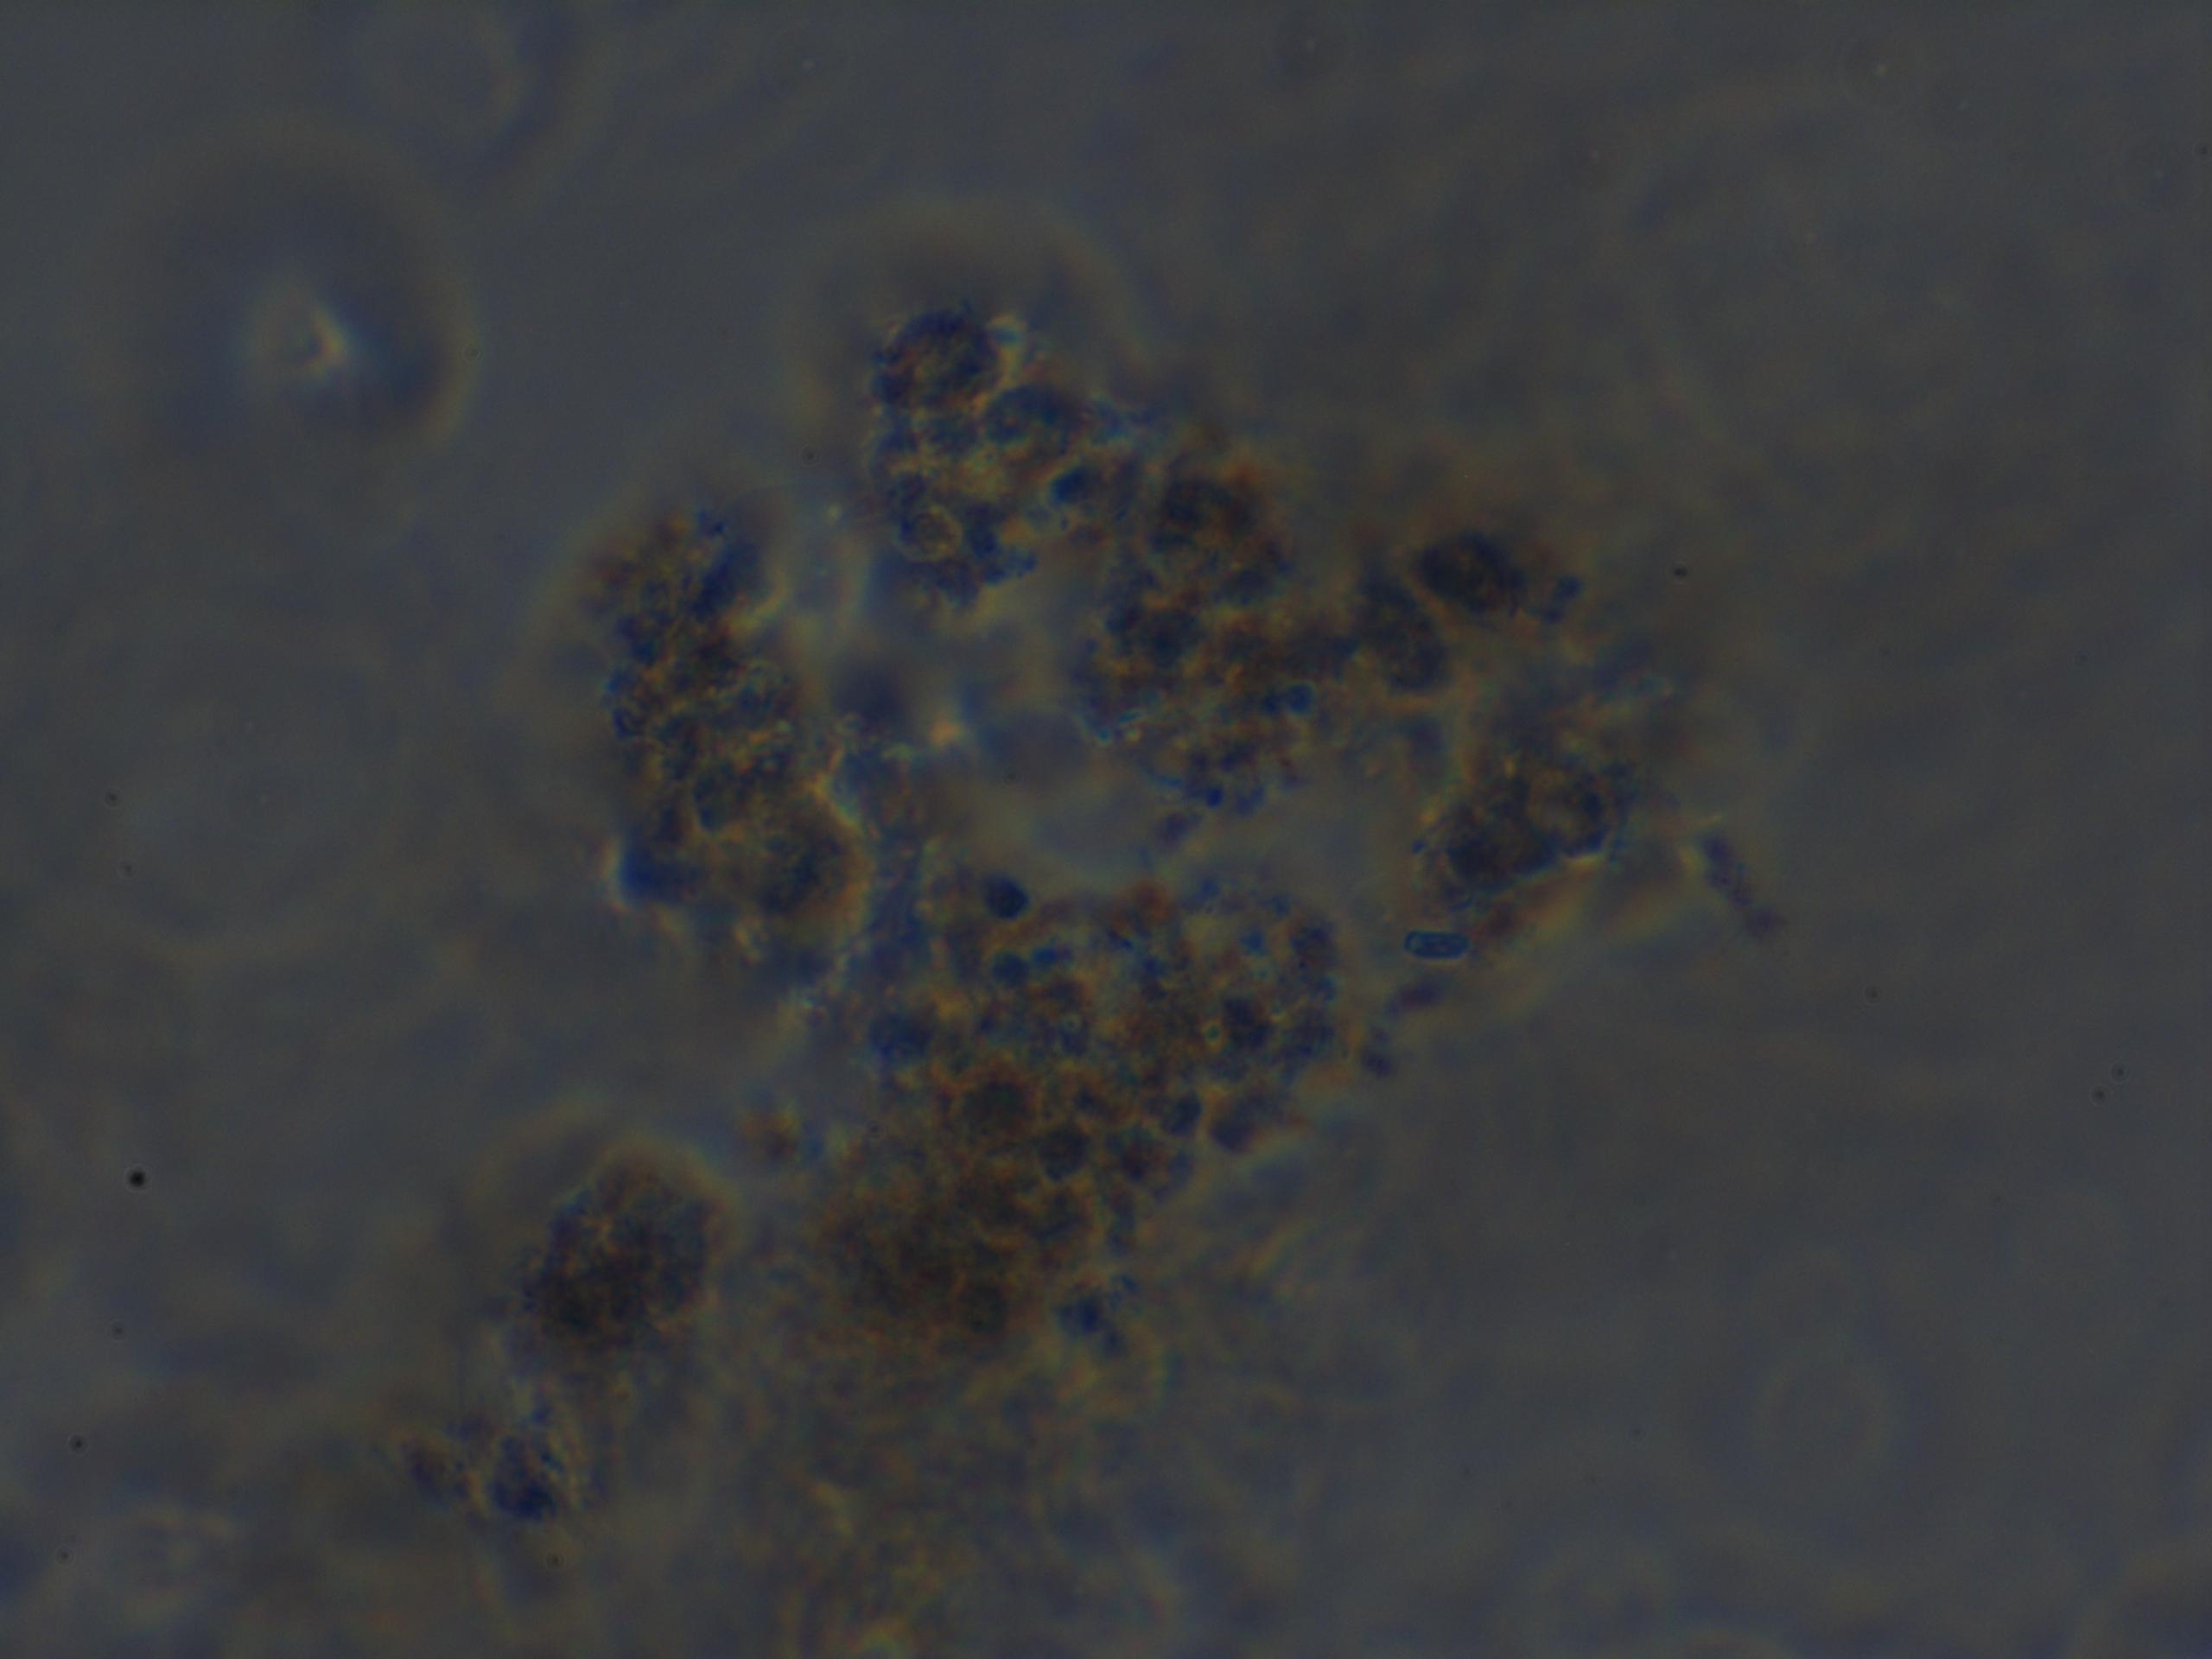open_floc: (406, 300, 1649, 1530)
